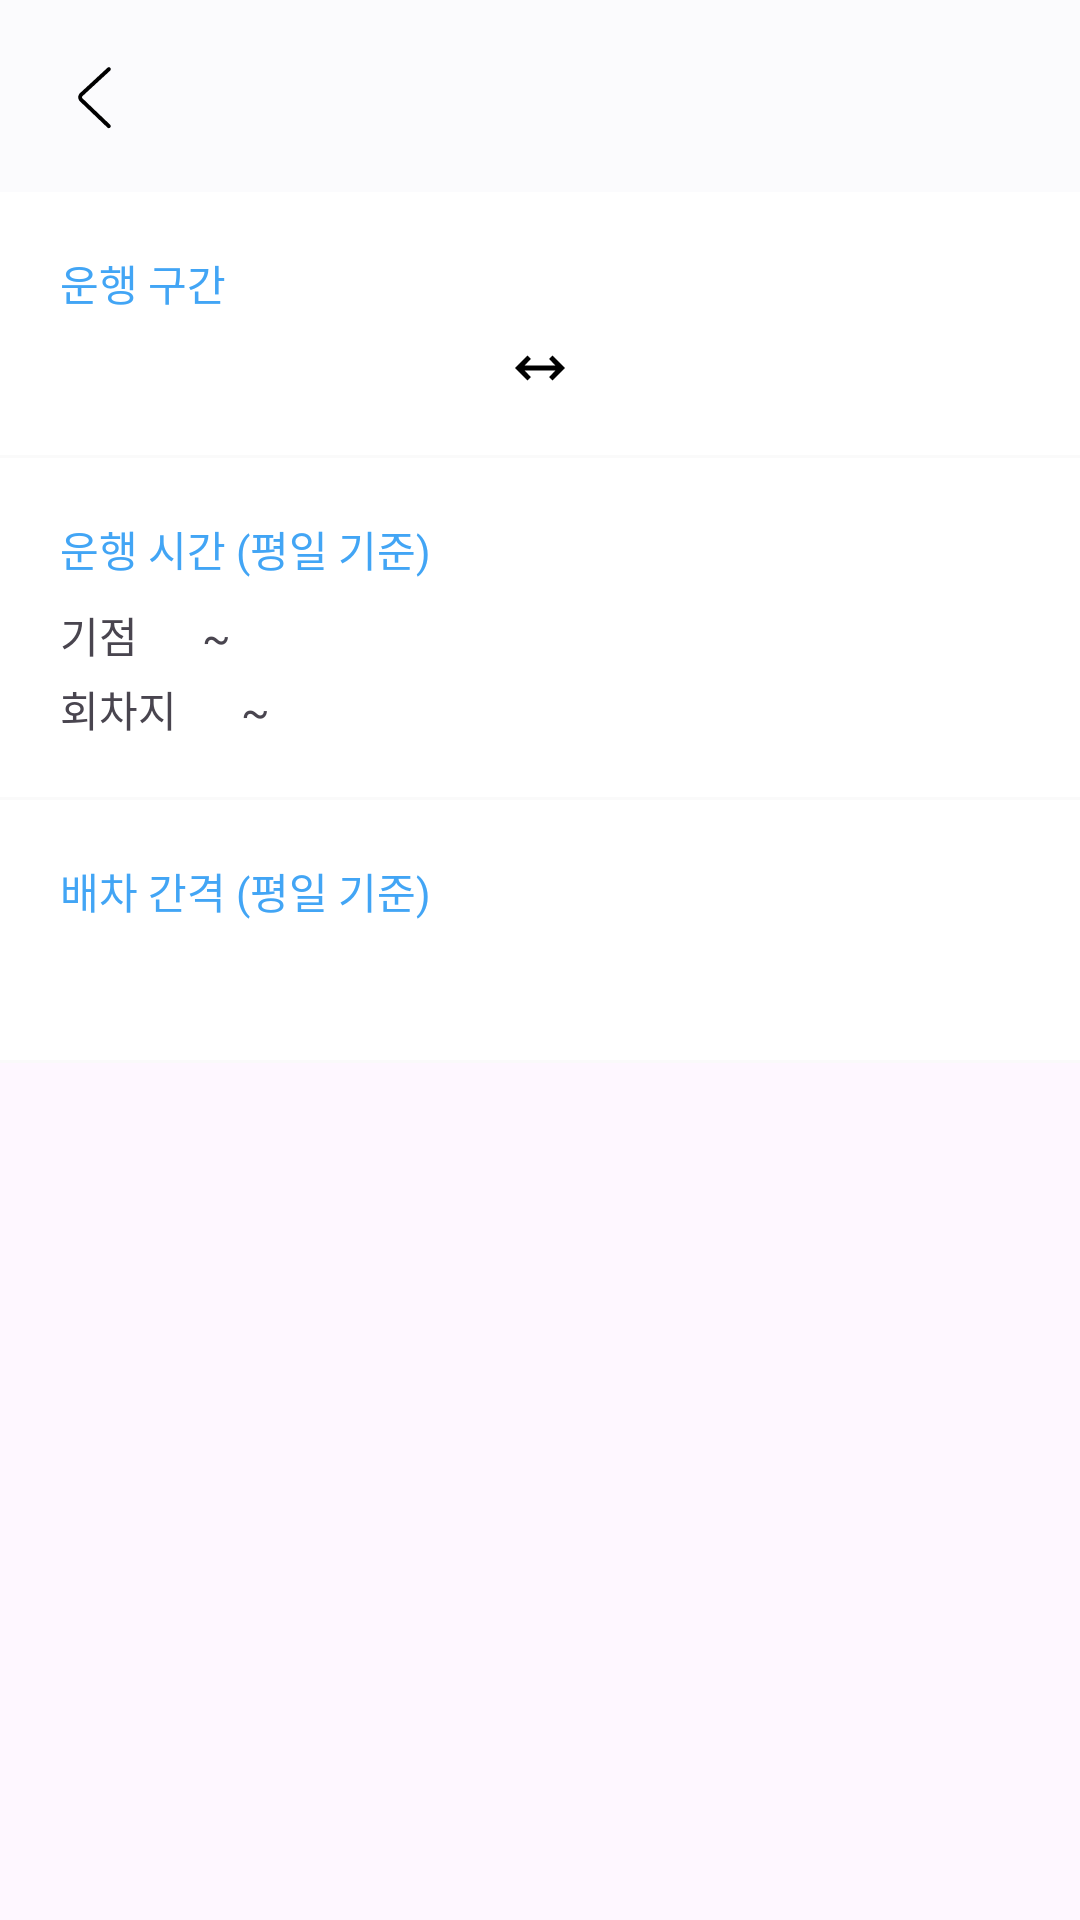

Point at icon controls on the screen. Image size 1080×1920, points as (x=x, y=y).
back: (x=94, y=98)
